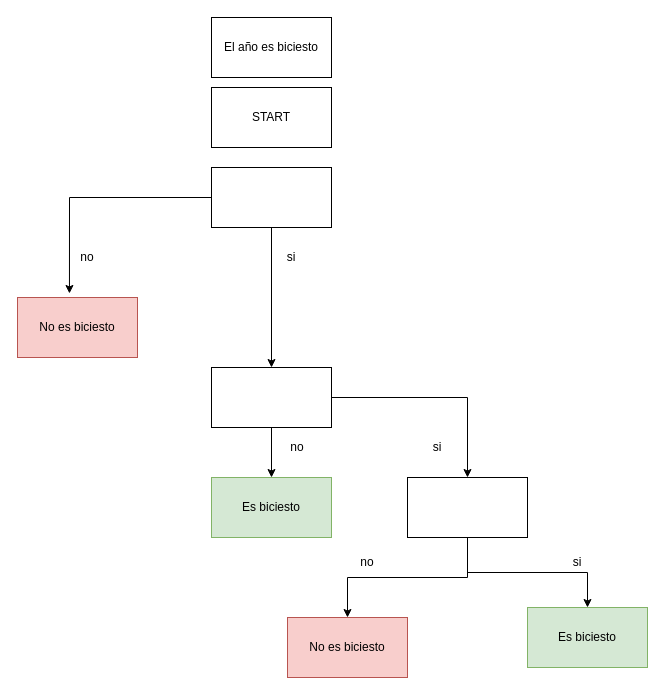
The diagram is 665 pixels wide and 695 high, and some of its shapes have lost their labels. Here are the shapes that lost their labels. From the top down, the centre of each, then its label:
At (271,197): "Divisible por 4".
At (271,397): "Es divisible por 100".
At (467,507): "Es divisible por 400".
